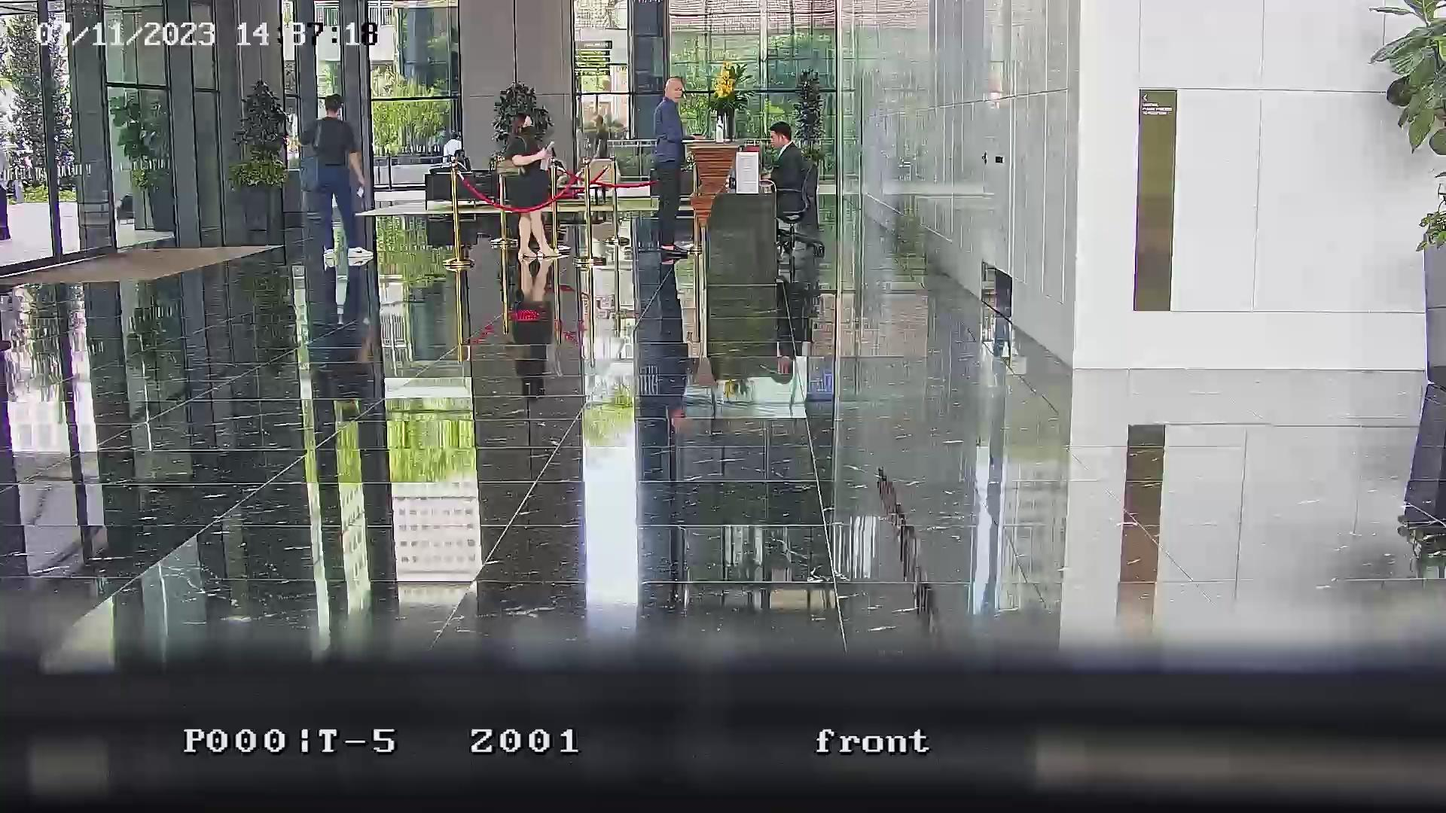person: (300, 95, 372, 269), (493, 109, 560, 294), (651, 75, 690, 257), (763, 122, 819, 228), (591, 114, 608, 159), (441, 131, 461, 161), (453, 148, 472, 173)
